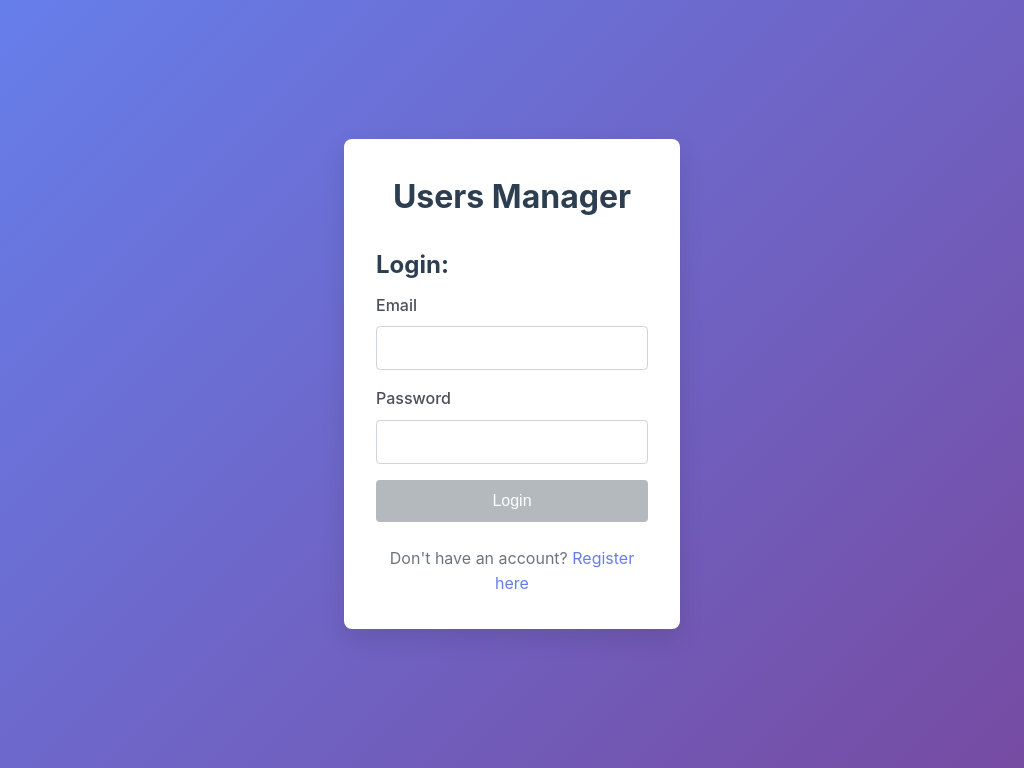
Scenario: form becomes incomplete when password is cleared
Type "test@example.com" into the field labelled "Email" at (512, 348), box [376,326,648,370]
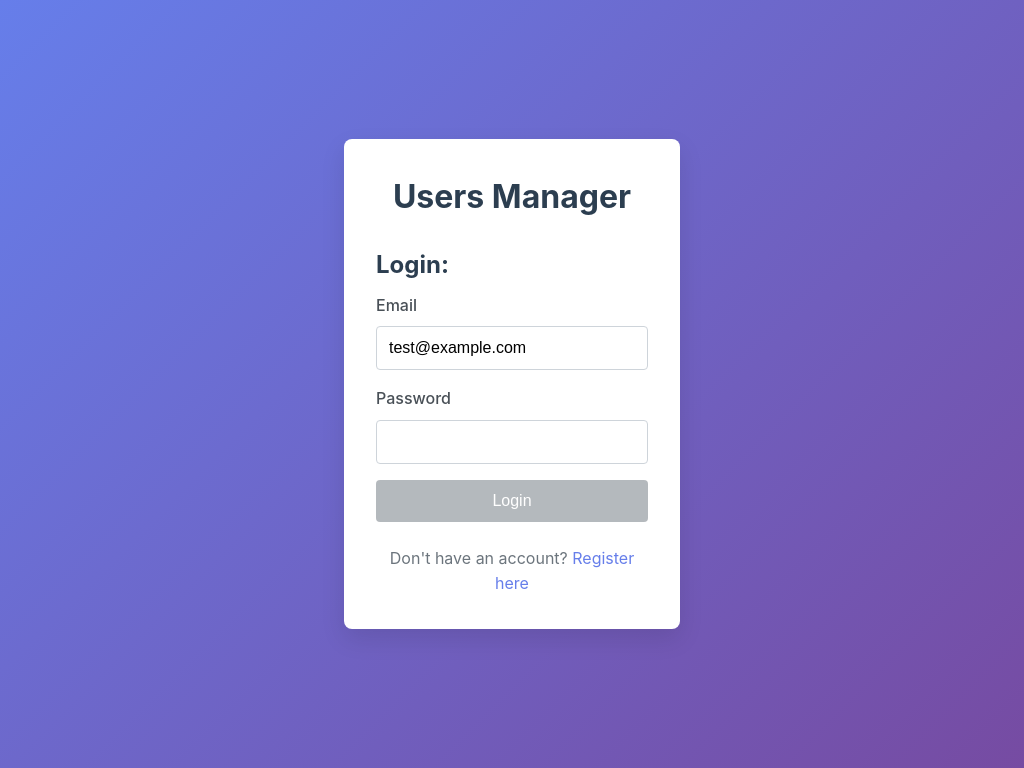
Type "password123" into the password field labelled "Password" at (512, 442), box [376,420,648,464]
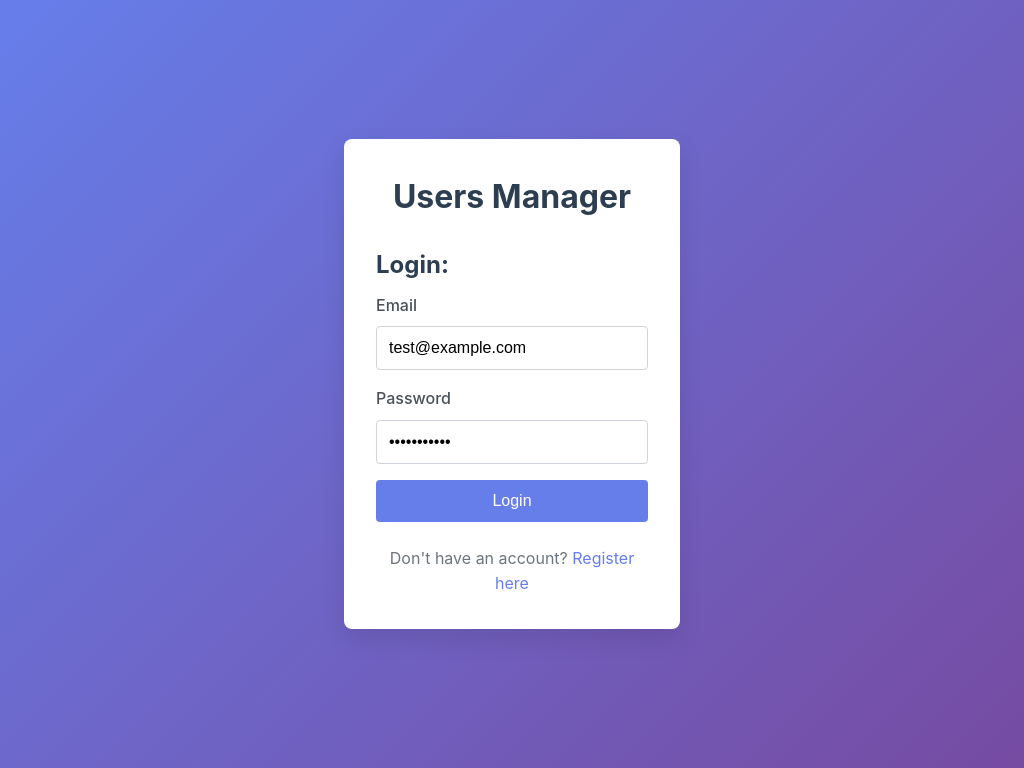
Expected: the button "Login" is enabled, [376,480,648,522]
Clear the password field labelled "Password" at (512, 442), box [376,420,648,464]
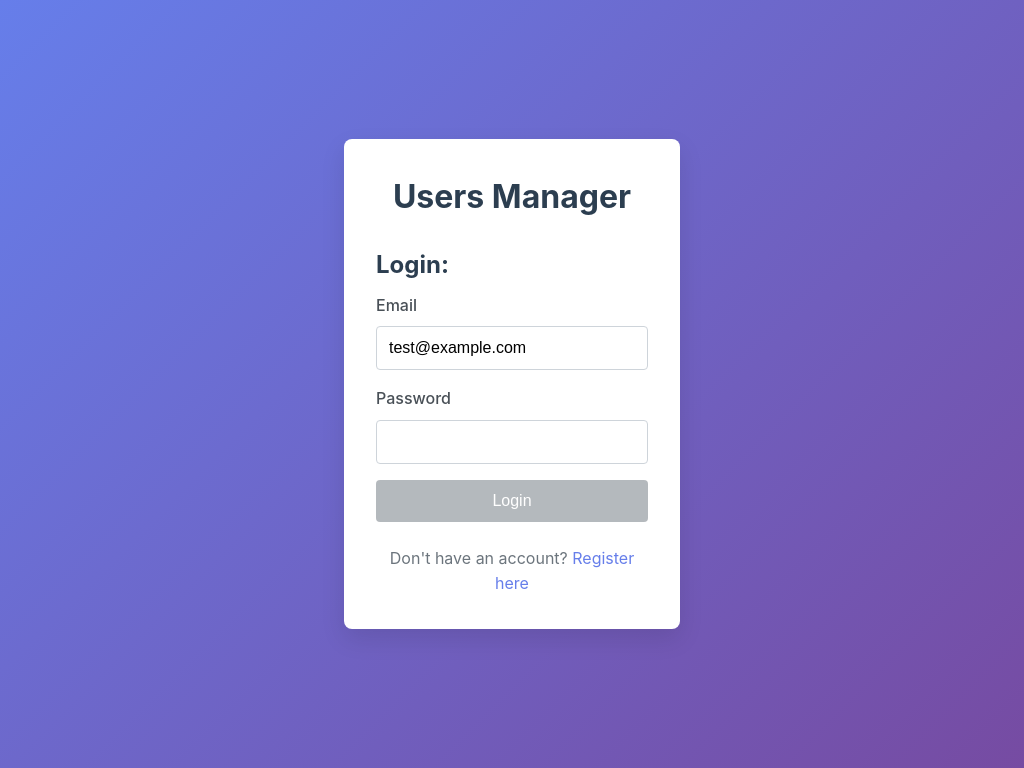
Expected: the button "Login" is disabled, [376,480,648,522]
